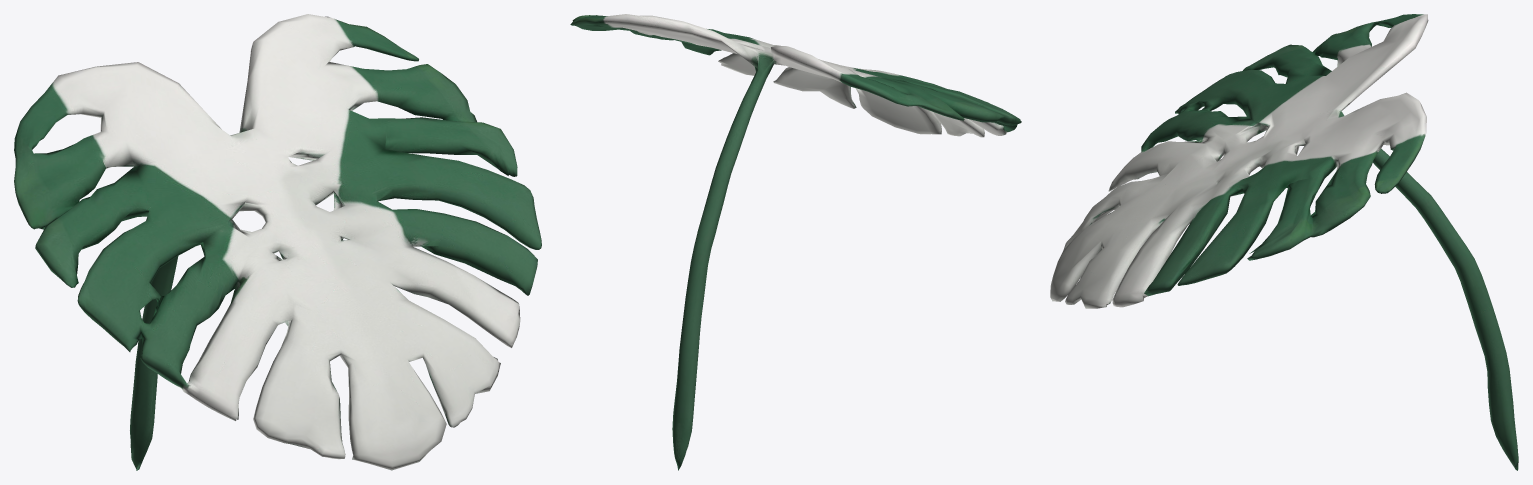
File: mon_halfmoon_greenwhite.glb
3 renders of one model, left to right at view 1: azimuth 30°, elevation 25°; view 2: azimuth 150°, elevation 25°; view 3: azimuth 270°, elevation 25°, orthographic. The views are drawn at different scales.
Size of the model in its own units: 1.99 by 1.91 by 2.
Materials: 1 (1 with a texture image).
